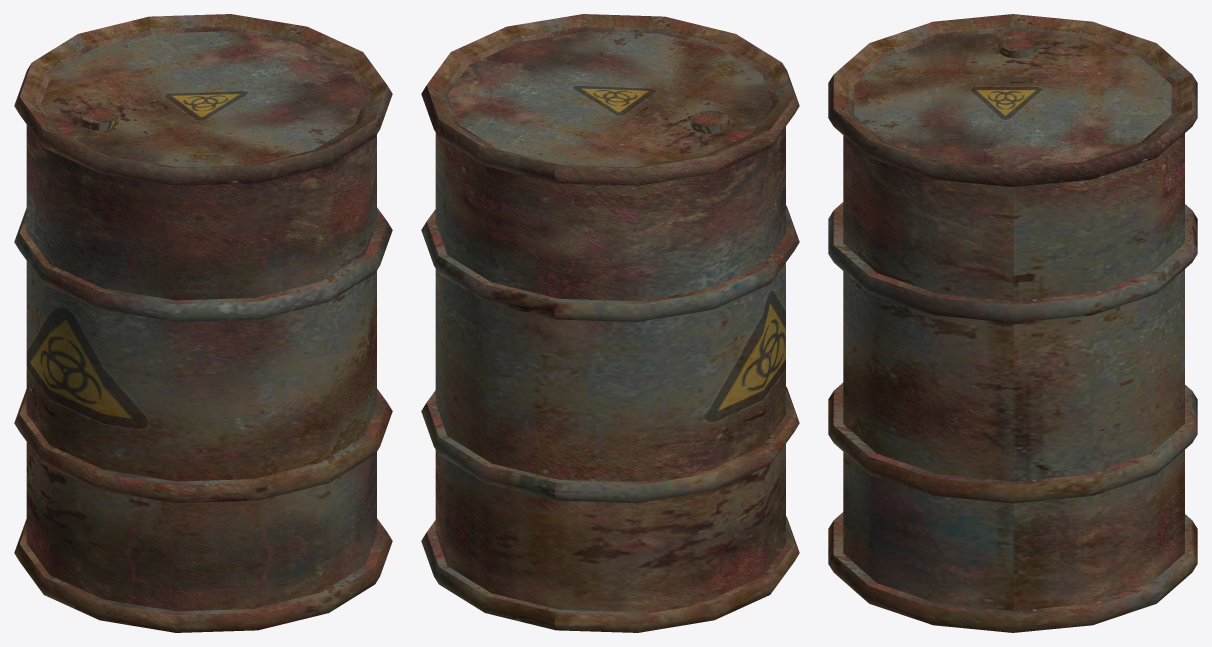
Rendered from barrel_1.dae.
3 views of the same model, side by side, from view 1: azimuth 30°, elevation 25°; view 2: azimuth 150°, elevation 25°; view 3: azimuth 270°, elevation 25° (orthographic).
Parts seen in each view (by area): view 1: Cylinder01; view 2: Cylinder01; view 3: Cylinder01.
Boxes of the visible parts, x1,y1,x2,y2 form: Cylinder01: (14, 14, 392, 632); Cylinder01: (421, 14, 799, 632); Cylinder01: (828, 14, 1197, 632).
Size of the model in its own units: 0.6768 by 0.9146 by 0.6598.
1 material, 1 textured.
